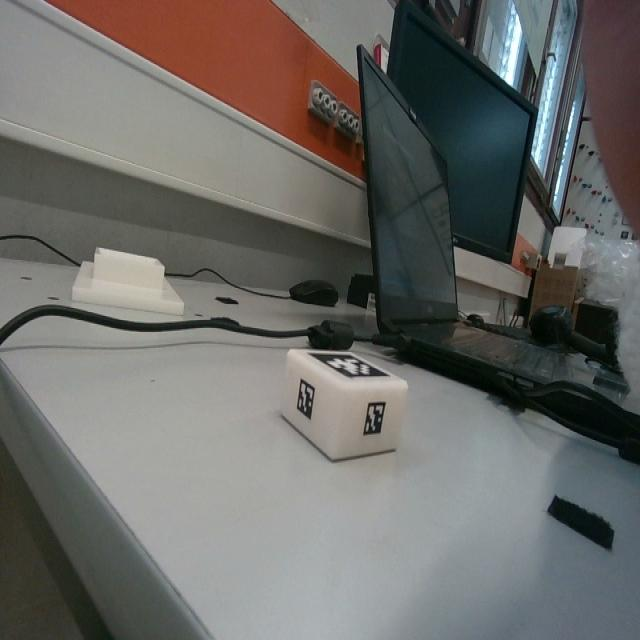Cube: (278, 351, 409, 464)
